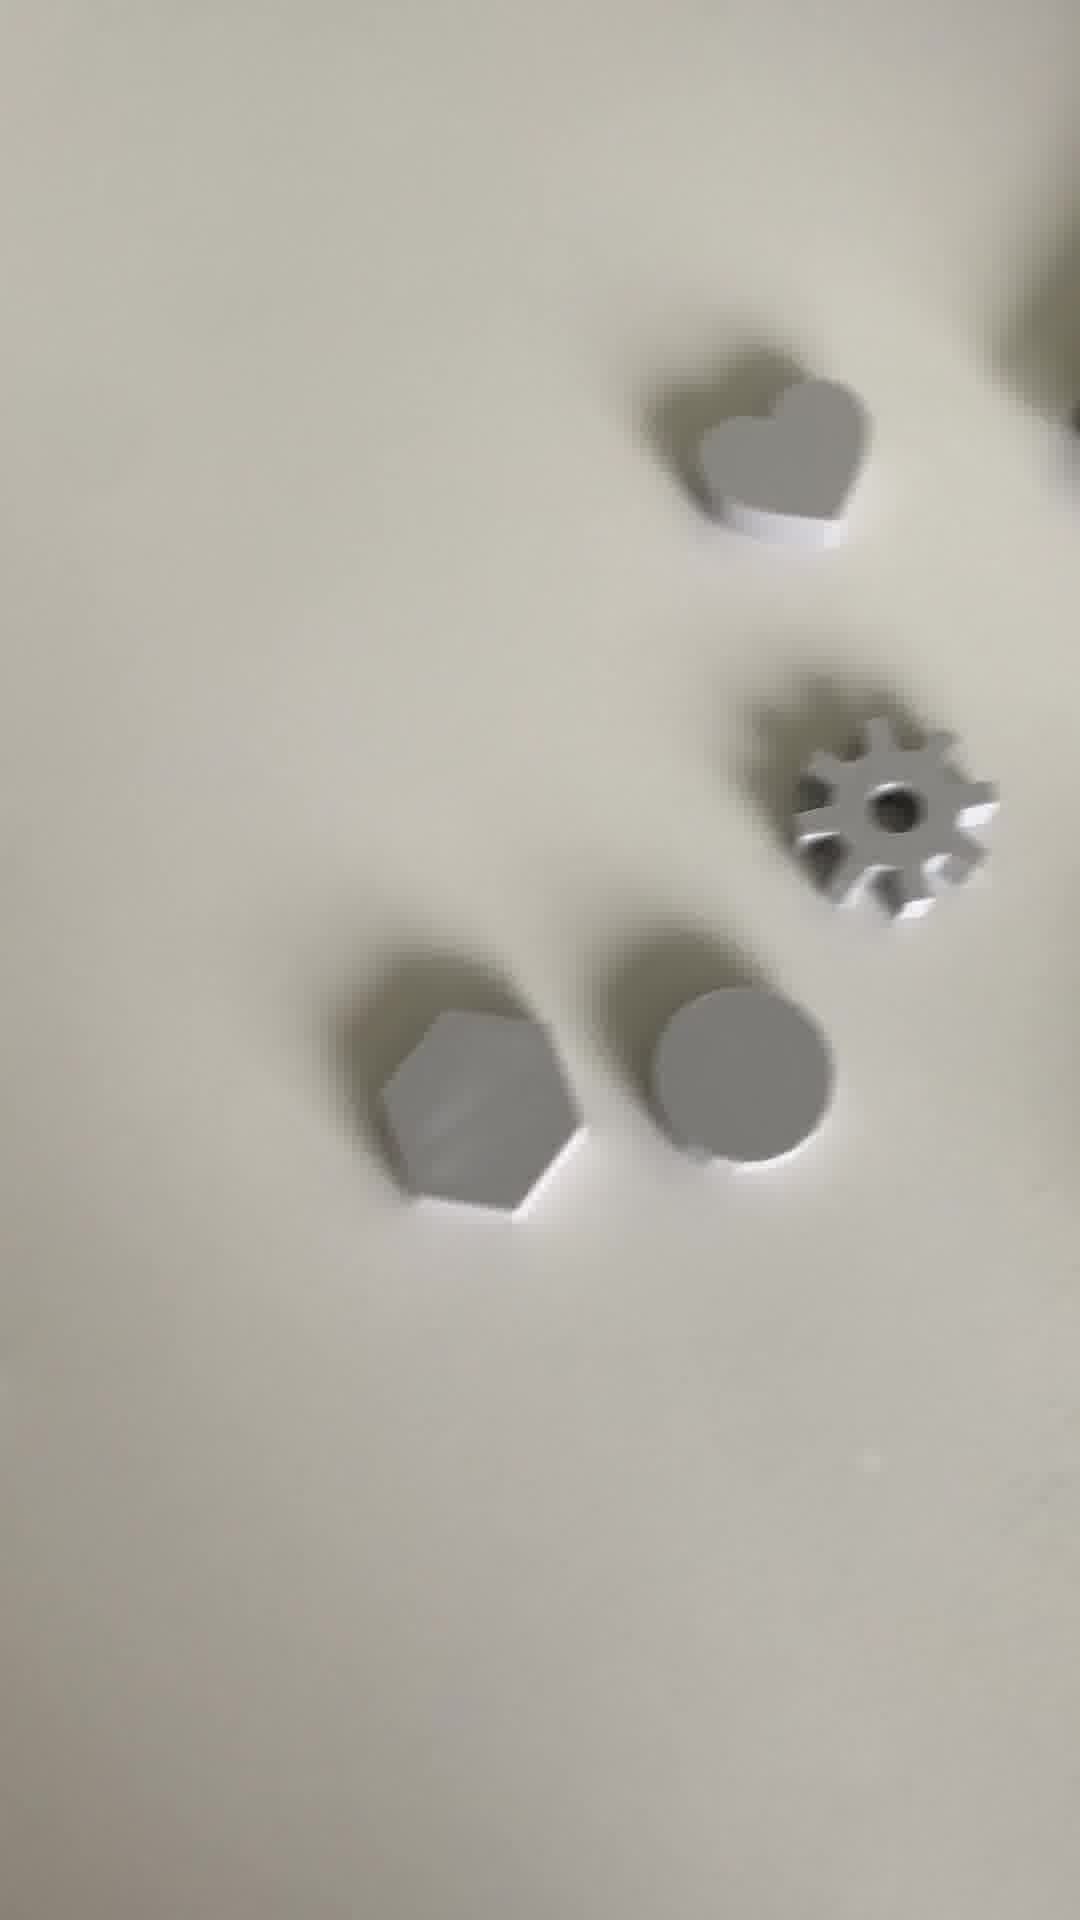Gray circle: (657, 981, 837, 1178)
Gray gear: (786, 713, 1007, 922)
Gray heart: (690, 371, 876, 567)
Gray hexagon: (373, 1015, 585, 1220)
